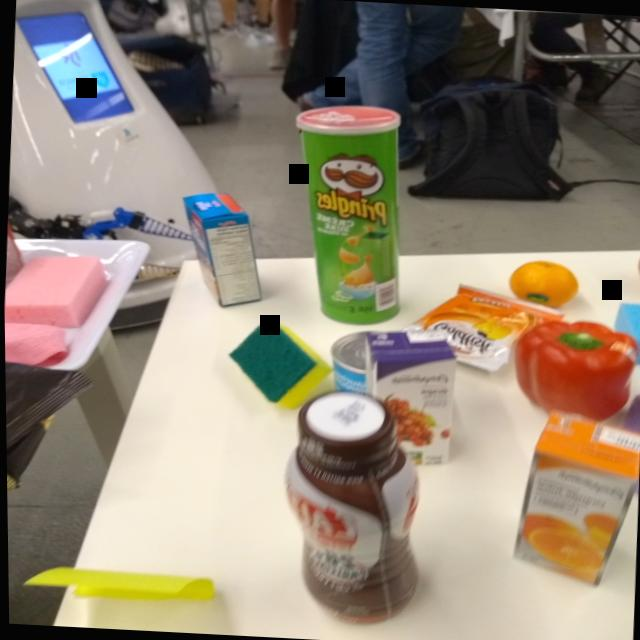cereal: (170, 189, 272, 309)
chocolate_drink: (272, 385, 435, 634)
crackers: (422, 294, 547, 361)
grape_juice: (359, 323, 461, 468)
orange: (505, 259, 582, 310)
orange_juice: (502, 409, 640, 589)
paprika: (507, 314, 640, 422)
pringles: (283, 99, 414, 331)
sausages: (325, 328, 372, 397)
scrubby: (219, 318, 332, 411)
